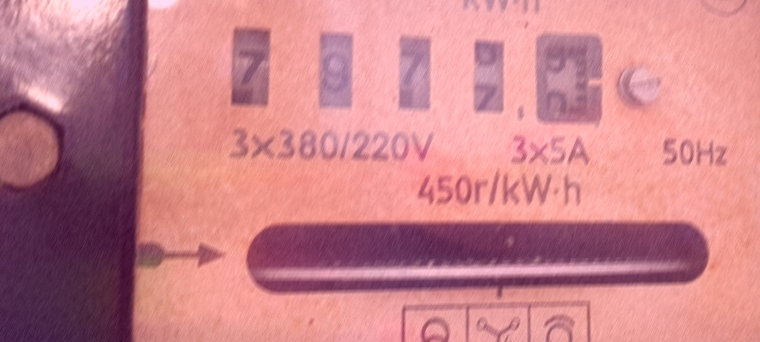0: (543, 87, 566, 117)
7: (232, 45, 266, 91), (470, 75, 500, 117), (397, 47, 426, 89)
9: (318, 49, 349, 96), (541, 44, 571, 76)
screen: (216, 11, 618, 143)
